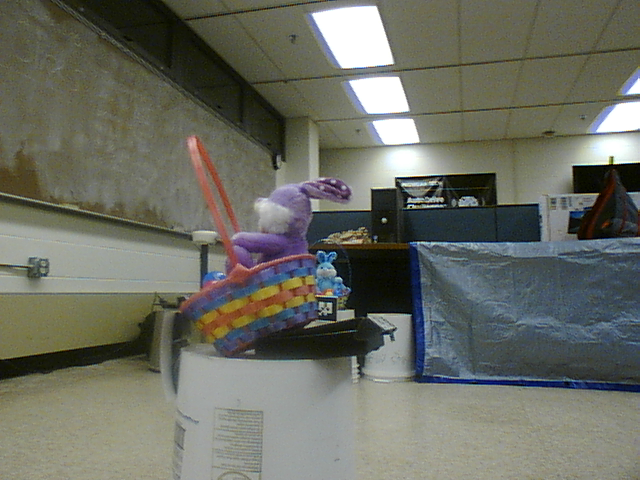bunny: (174, 140, 358, 359), (311, 240, 352, 302)
